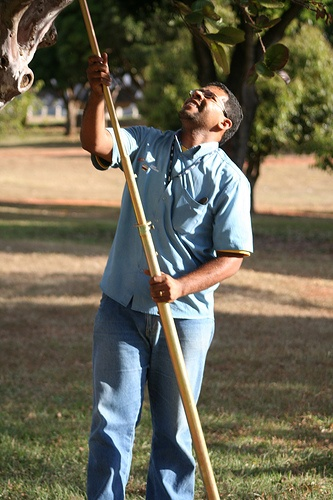head: (178, 84, 244, 144)
person: (82, 49, 249, 500)
